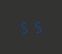five: (19, 20, 30, 34), (31, 19, 42, 33)
